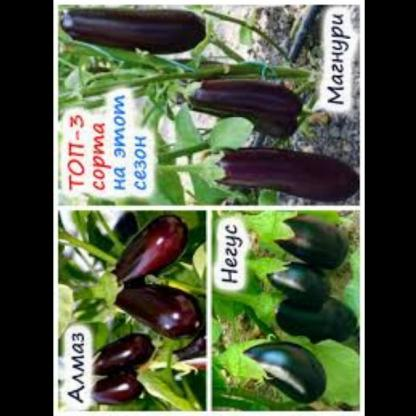eggplant: (155, 137, 358, 202), (52, 1, 233, 73), (150, 58, 321, 129), (101, 213, 192, 299), (214, 333, 324, 399), (244, 240, 348, 303), (236, 287, 357, 340), (255, 202, 357, 262), (114, 279, 203, 340), (88, 329, 147, 383), (80, 373, 142, 411)
